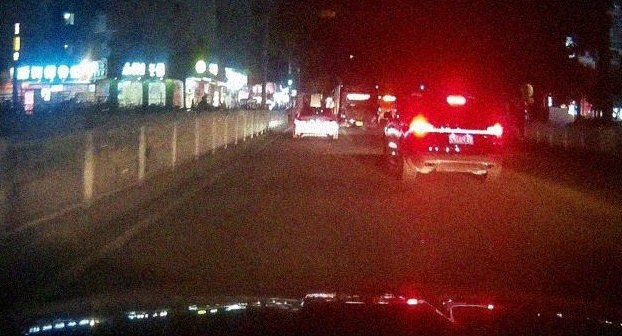L_light: (409, 121, 432, 136)
R_light: (487, 123, 504, 137)
T_light: (447, 96, 464, 105)
night-left: (408, 93, 504, 181)
